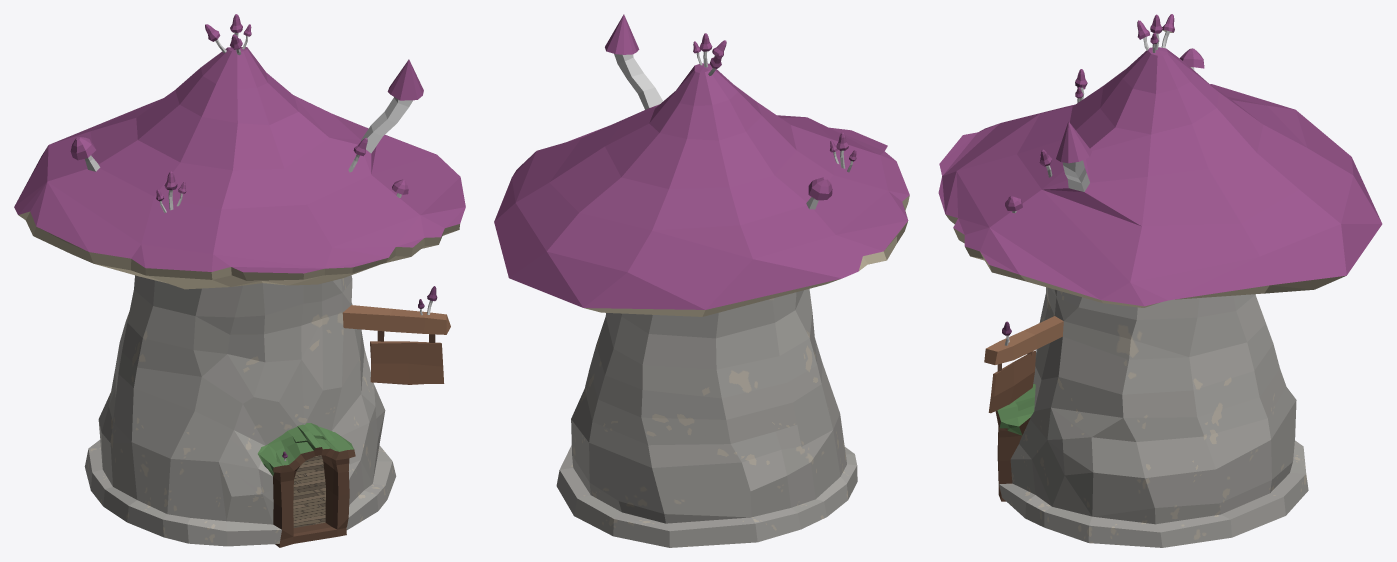
The model's file is mushroom_house.FBX.
3 renders of one model, left to right at view 1: azimuth 30°, elevation 25°; view 2: azimuth 150°, elevation 25°; view 3: azimuth 270°, elevation 25°, orthographic. The views are drawn at different scales.
Visible parts, largest first — view 1: Door, Wall, Floor; view 2: Door, Wall; view 3: Door, Wall.
Part boxes in pixels (<box>): Door: <box>14,14,465,547</box>; Wall: <box>84,275,396,546</box>; Floor: <box>293,455,347,527</box>; Door: <box>494,14,909,316</box>; Wall: <box>556,289,857,547</box>; Door: <box>938,14,1382,501</box>; Wall: <box>999,287,1308,547</box>.
Bounding box in the file's own units: 53.51 × 60.96 × 52.05.
